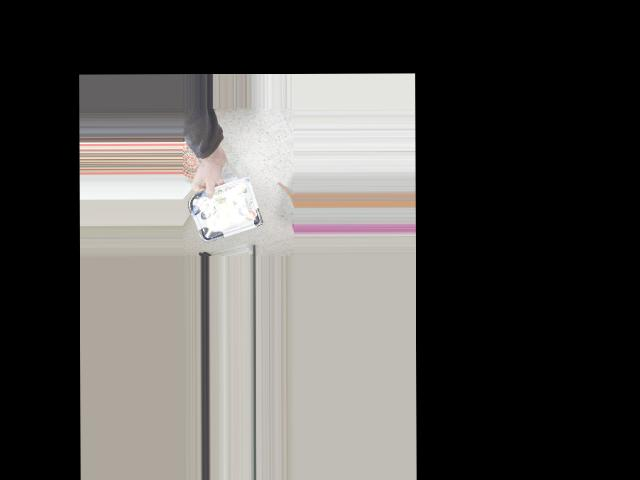cheese: (191, 188, 254, 235)
